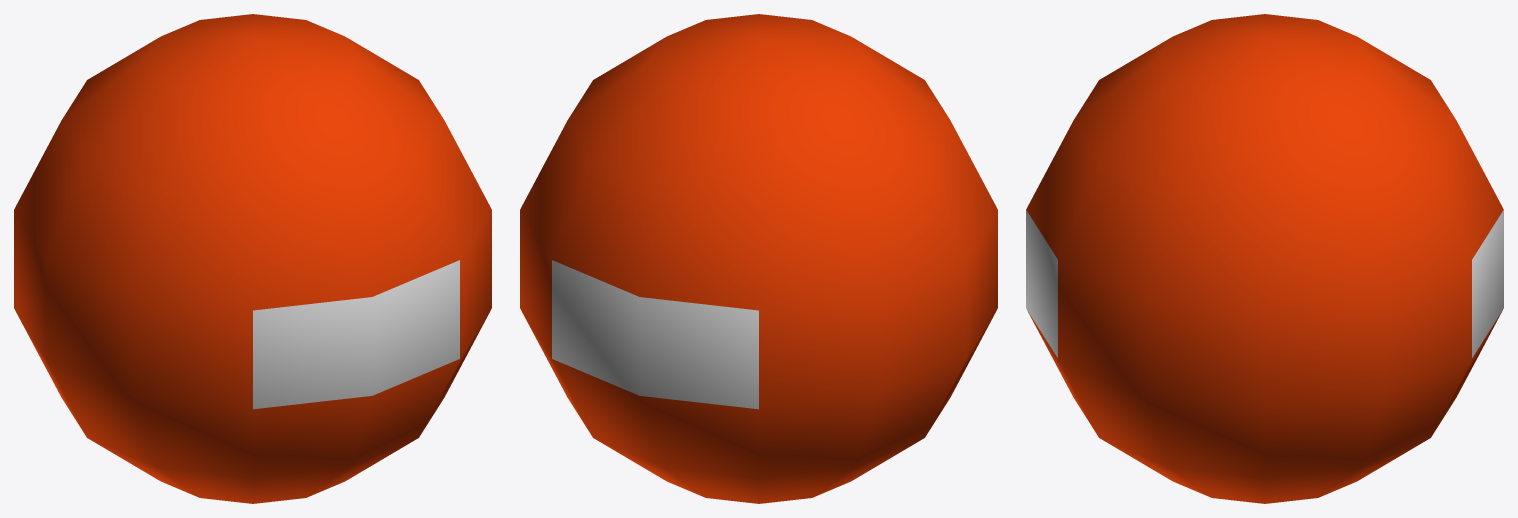
The model's file is projectile_ball.fbx.
3 renders of one model, left to right at view 1: azimuth 30°, elevation 25°; view 2: azimuth 150°, elevation 25°; view 3: azimuth 270°, elevation 25°, orthographic.
Visible parts, largest first — view 1: Sphere; view 2: Sphere; view 3: Sphere.
Part boxes in pixels (<box>): Sphere: <box>14,14,491,503</box>; Sphere: <box>520,14,997,503</box>; Sphere: <box>1026,14,1503,503</box>.
Bounding box in the file's own units: 195 × 200 × 195.
